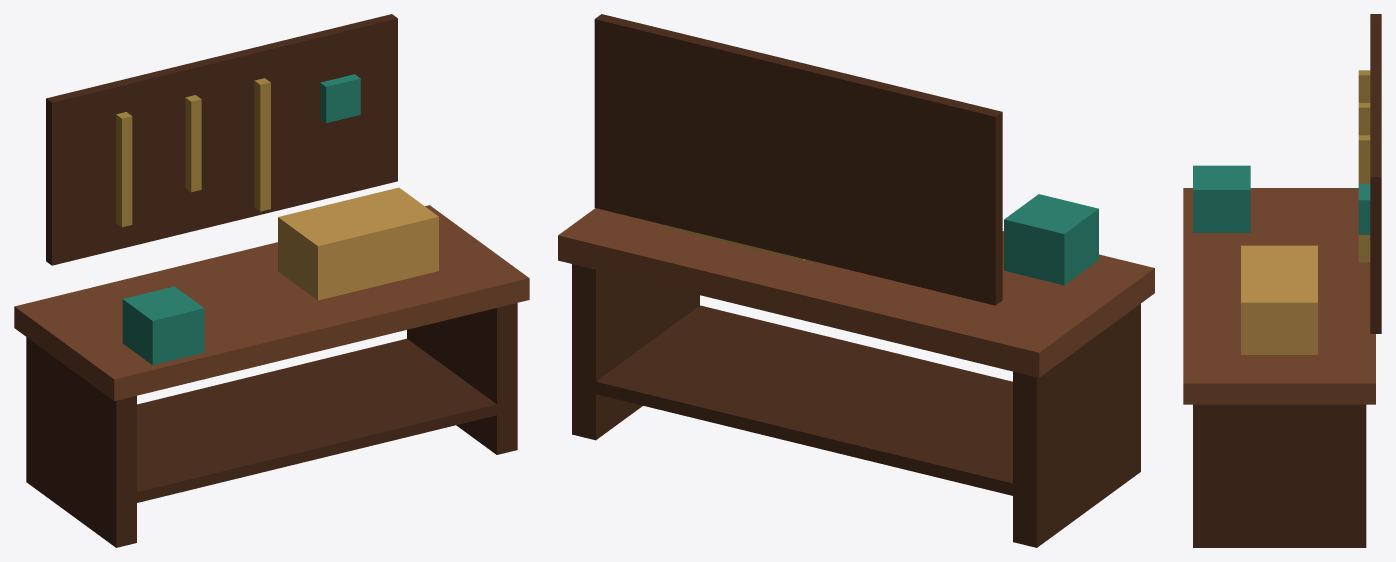
The model's file is bench.gltf.
The picture shows the model from 3 angles, left to right: view 1: azimuth 30°, elevation 25°; view 2: azimuth 150°, elevation 25°; view 3: azimuth 270°, elevation 25°; orthographic projection. The views are drawn at different scales.
Visible parts, largest first — view 1: rack, top, shelf, legs, toolbox, vice, tools.3, tools, tools.4, tools.2; view 2: rack, shelf, top, legs, vice; view 3: top, legs, toolbox, vice, rack, tools.3, tools.4, tools, tools.2.
Part boxes in pixels (bbox=[...]): rack: bbox=[46, 14, 397, 265]; top: bbox=[14, 205, 529, 400]; shelf: bbox=[126, 338, 507, 505]; legs: bbox=[26, 303, 517, 547]; toolbox: bbox=[278, 187, 438, 300]; vice: bbox=[122, 286, 204, 365]; tools.3: bbox=[254, 78, 270, 211]; tools: bbox=[116, 112, 132, 227]; tools.4: bbox=[320, 74, 360, 123]; tools.2: bbox=[185, 95, 201, 192]; rack: bbox=[594, 14, 1002, 305]; shelf: bbox=[585, 305, 1024, 498]; top: bbox=[558, 208, 1154, 377]; legs: bbox=[572, 264, 1140, 547]; vice: bbox=[1004, 194, 1098, 285]; top: bbox=[1183, 188, 1375, 404]; legs: bbox=[1193, 404, 1366, 547]; toolbox: bbox=[1241, 245, 1317, 354]; vice: bbox=[1193, 165, 1250, 232]; rack: bbox=[1370, 14, 1381, 333]; tools.3: bbox=[1358, 135, 1370, 262]; tools.4: bbox=[1358, 184, 1370, 234]; tools: bbox=[1358, 70, 1370, 102]; tools.2: bbox=[1358, 103, 1370, 135].
Bounding box in the file's own units: 2.4 × 2.05 × 1.03.
